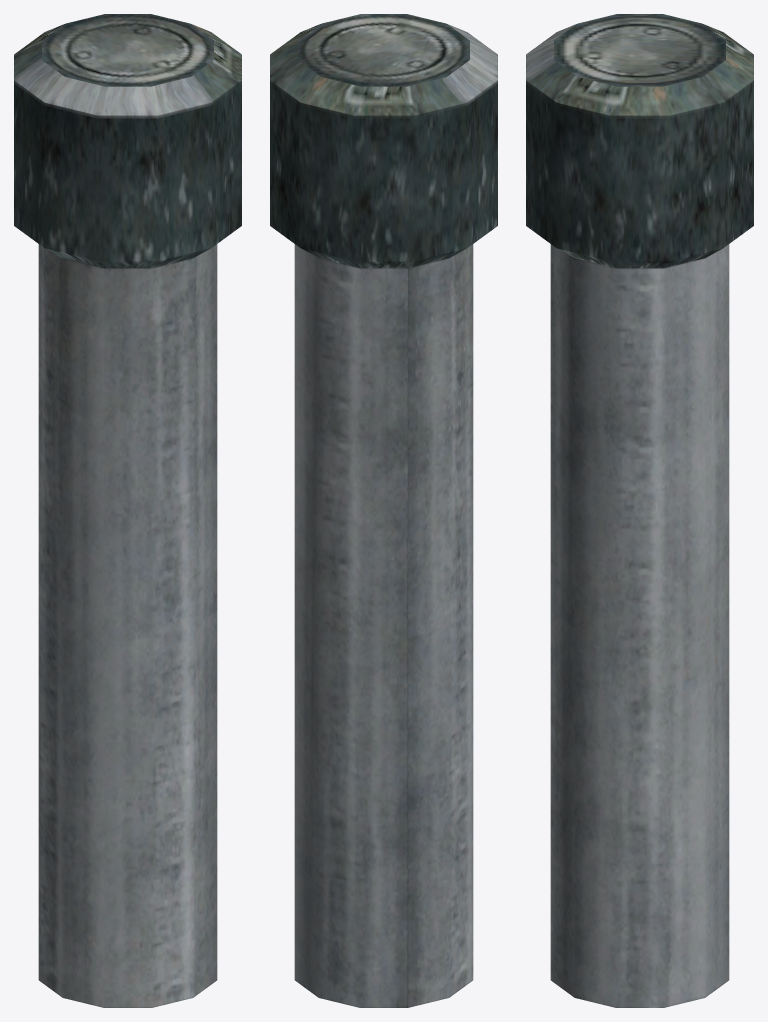
The model's file is bunker_mine_support_piston_s01_l0.fbx.
The picture shows the model from 3 angles, left to right: view 1: azimuth 30°, elevation 25°; view 2: azimuth 150°, elevation 25°; view 3: azimuth 270°, elevation 25°; orthographic projection.
Visible parts, largest first — view 1: mesh_node; view 2: mesh_node; view 3: mesh_node.
Part boxes in pixels (left/top/right/bottom): mesh_node: left=14, top=14, right=241, bottom=1007; mesh_node: left=270, top=14, right=497, bottom=1007; mesh_node: left=526, top=14, right=753, bottom=1007.
Size of the model in its own units: 0.5425 by 2.42 by 0.5425.
1 material, 1 textured.
